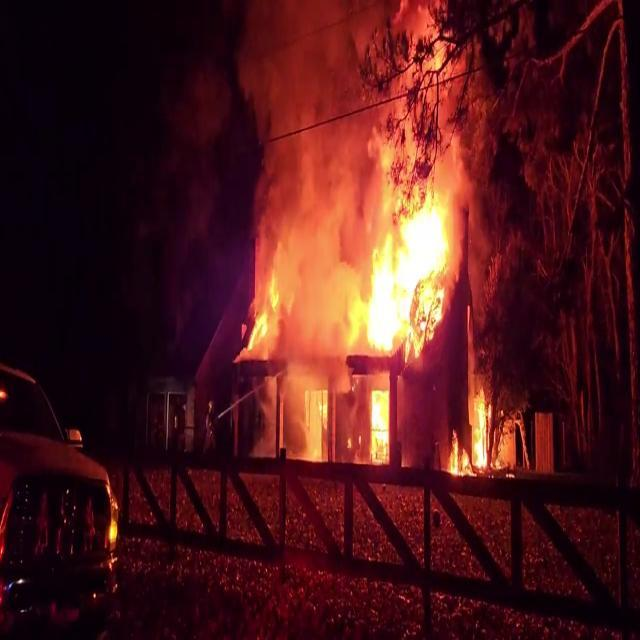Fire: (348, 181, 458, 357), (294, 372, 400, 470), (446, 381, 496, 481)
Smoke: (208, 0, 376, 323)
